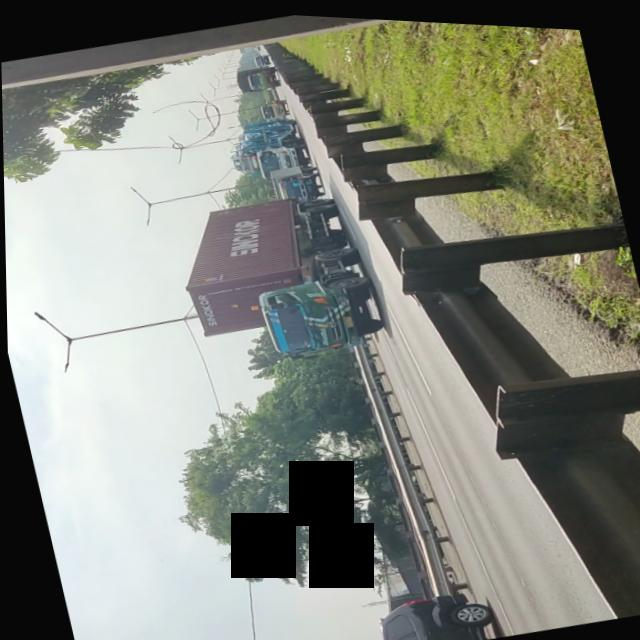Golongan IV: (172, 175, 391, 377)
